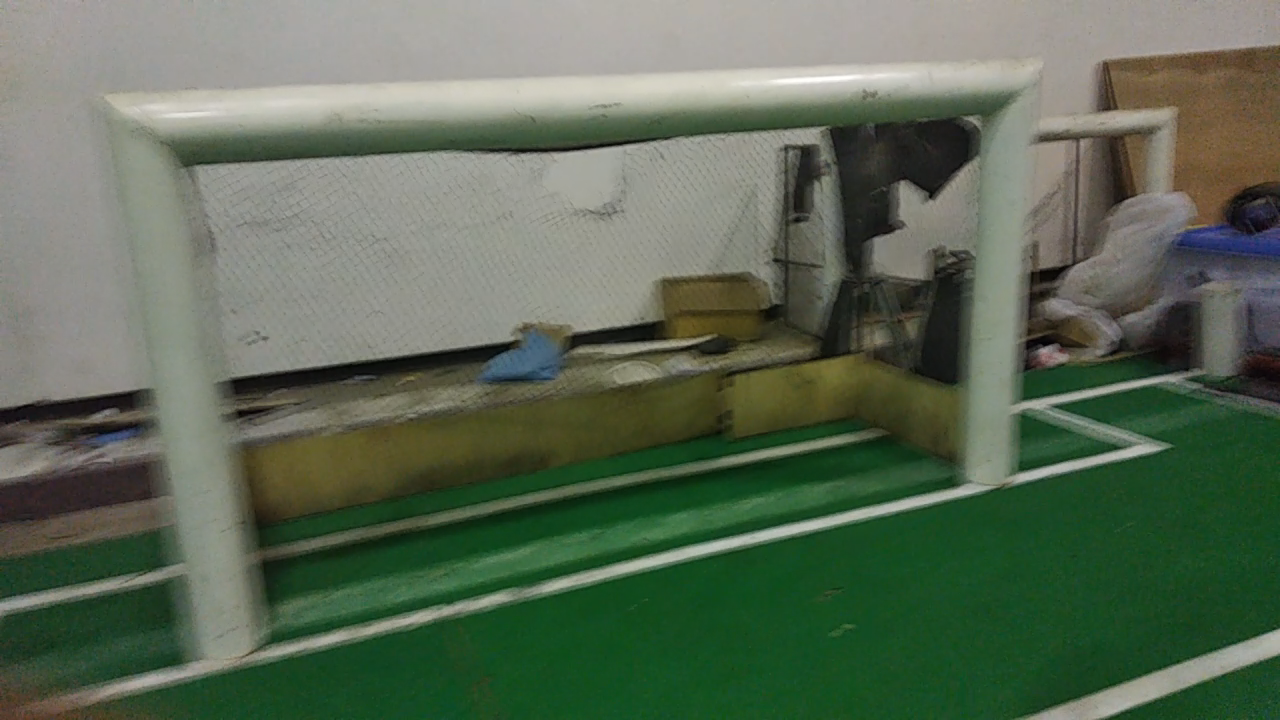gawang: (81, 32, 1067, 685)
